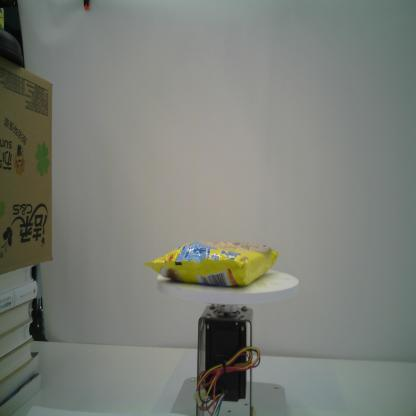Instant Noodles: (142, 239, 280, 288)
